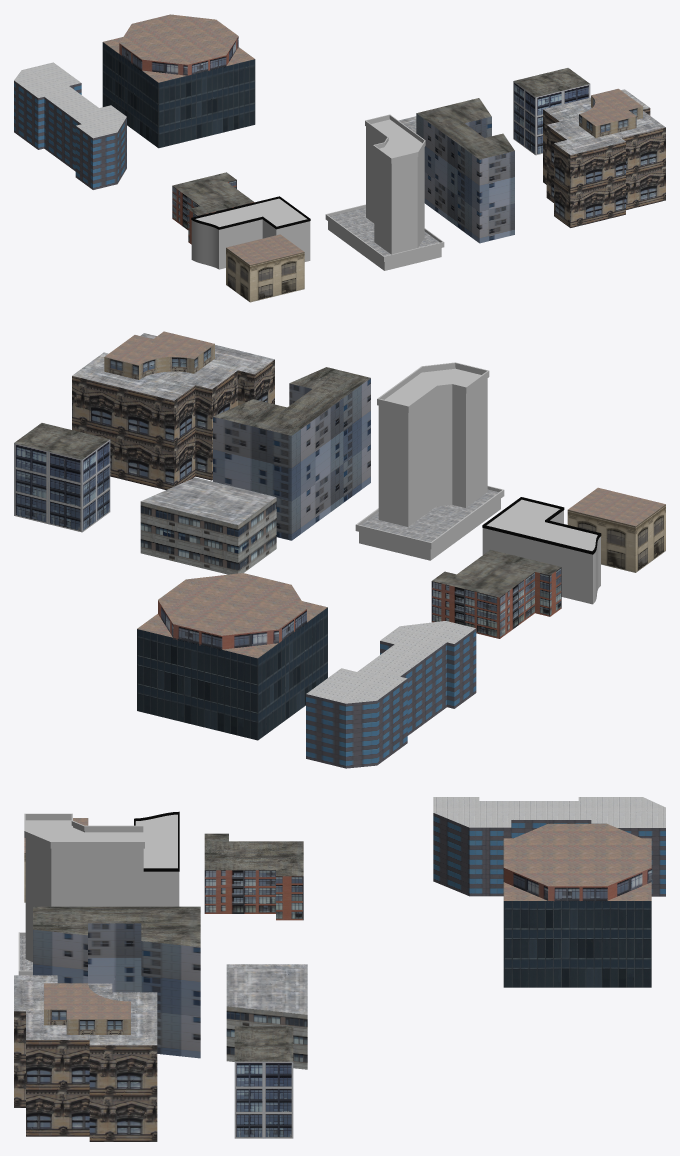
The model's file is Low Poly Building Try.fbx.
The picture shows the model from 3 angles, top to bottom: view 1: azimuth 30°, elevation 25°; view 2: azimuth 150°, elevation 25°; view 3: azimuth 270°, elevation 25°; orthographic projection. The views are drawn at different scales.
Visible parts, largest first — view 1: Building7, Building8, Building4, Building9, Building1, Building10, Building3, Building6, Building2; view 2: Building7, Building8, Building9, Building4, Building1, Building5, Building6, Building2, Building10, Building3; view 3: Building7, Building8, Building4, Building1, Building9, Building2, Building6, Building5, Building10.
Boxes of the visible parts, left/top/right/bottom form: Building7: left=102, top=14, right=255, bottom=148; Building8: left=543, top=88, right=665, bottom=227; Building4: left=416, top=98, right=514, bottom=243; Building9: left=325, top=114, right=444, bottom=270; Building1: left=14, top=62, right=126, bottom=189; Building10: left=191, top=196, right=310, bottom=269; Building3: left=226, top=234, right=304, bottom=302; Building6: left=513, top=68, right=590, bottom=155; Building2: left=172, top=172, right=254, bottom=244; Building7: left=137, top=573, right=327, bottom=740; Building8: left=72, top=331, right=274, bottom=489; Building9: left=355, top=362, right=504, bottom=560; Building4: left=213, top=367, right=370, bottom=540; Building1: left=306, top=621, right=476, bottom=768; Building5: left=140, top=477, right=276, bottom=574; Building6: left=14, top=423, right=110, bottom=532; Building2: left=431, top=549, right=561, bottom=638; Building10: left=482, top=497, right=601, bottom=604; Building3: left=567, top=487, right=665, bottom=572; Building7: left=503, top=823, right=651, bottom=987; Building8: left=14, top=975, right=157, bottom=1141; Building4: left=33, top=906, right=200, bottom=1058; Building1: left=433, top=797, right=665, bottom=896; Building9: left=18, top=813, right=144, bottom=975; Building2: left=204, top=833, right=303, bottom=920; Building6: left=234, top=1026, right=293, bottom=1138; Building5: left=226, top=964, right=307, bottom=1069; Building10: left=134, top=811, right=179, bottom=906.
Bounding box in the file's own units: 869 × 213 × 867.
